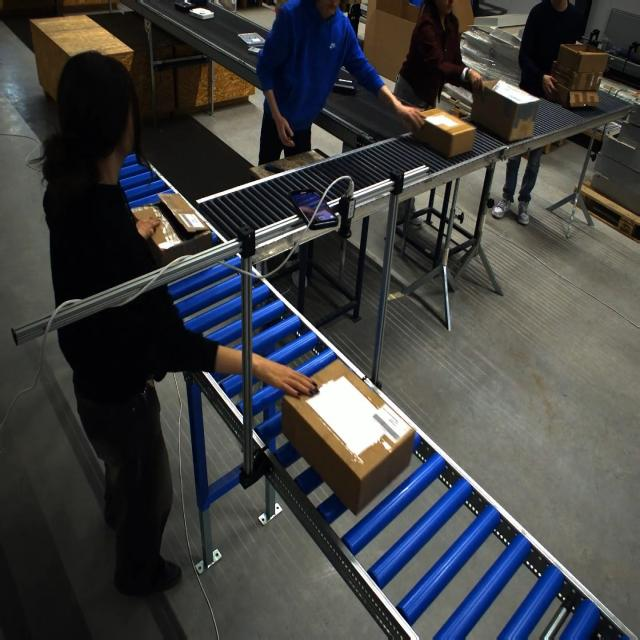box: (283, 361, 396, 508), (469, 78, 542, 143), (131, 203, 205, 267), (411, 108, 474, 159), (564, 68, 603, 91)
product: (332, 74, 357, 95), (189, 7, 214, 19), (174, 1, 195, 13), (247, 46, 264, 55)
